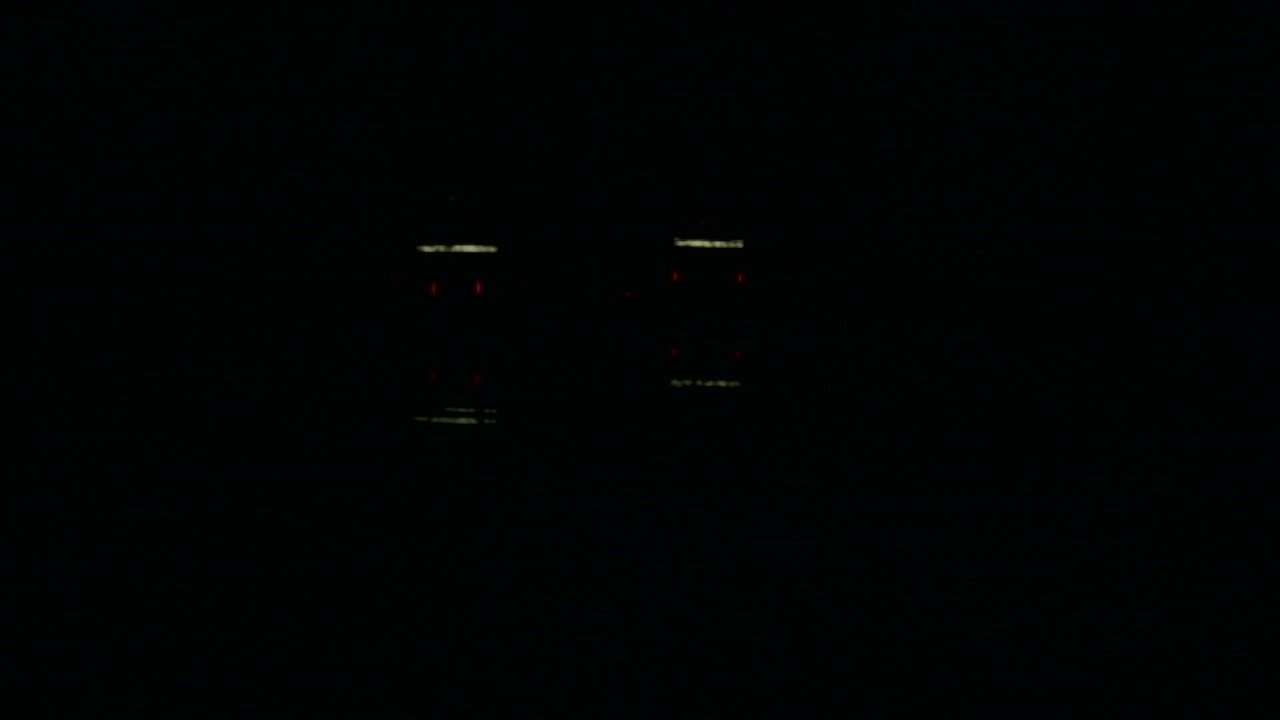pair1: (428, 283, 481, 295)
pair2: (671, 272, 745, 285)
